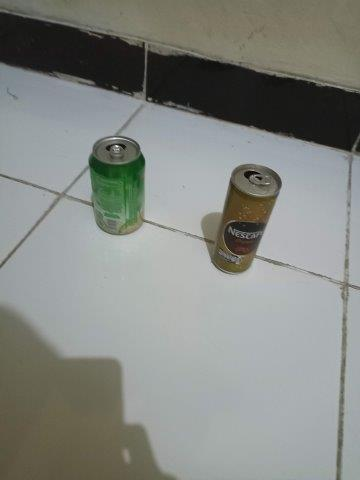kaleng: (211, 163, 282, 275), (88, 135, 147, 237)
